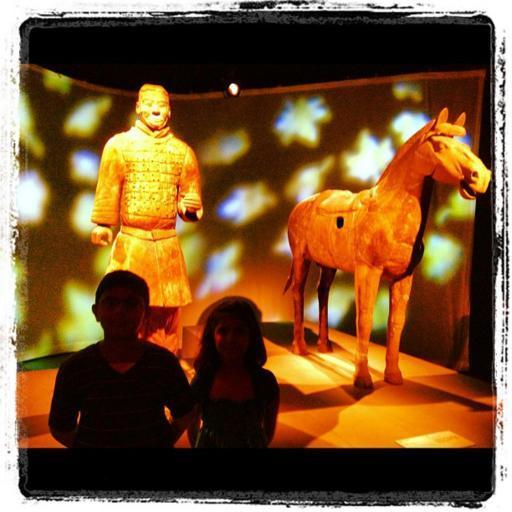horse: (281, 104, 490, 394)
